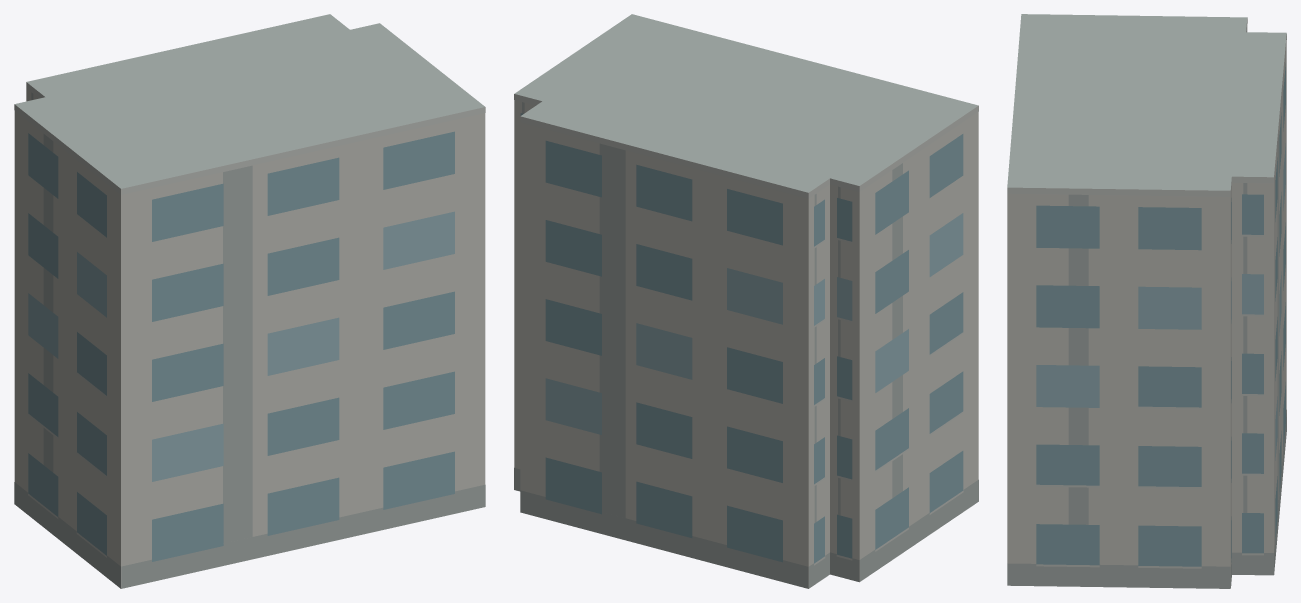
The model's file is survey-upis-32824028.glb.
3 views of the same model, side by side, from view 1: azimuth 30°, elevation 25°; view 2: azimuth 150°, elevation 25°; view 3: azimuth 270°, elevation 25° (orthographic).
Parts seen in each view (by area): view 1: survey-upis-32824028.tmp; view 2: survey-upis-32824028.tmp; view 3: survey-upis-32824028.tmp.
Boxes of the visible parts, x1=… form: survey-upis-32824028.tmp: x1=14, y1=14, x2=485, y2=588; survey-upis-32824028.tmp: x1=514, y1=14, x2=978, y2=588; survey-upis-32824028.tmp: x1=1007, y1=14, x2=1286, y2=588.
Bounding box in the file's own units: 14.96 × 15.7 × 10.
